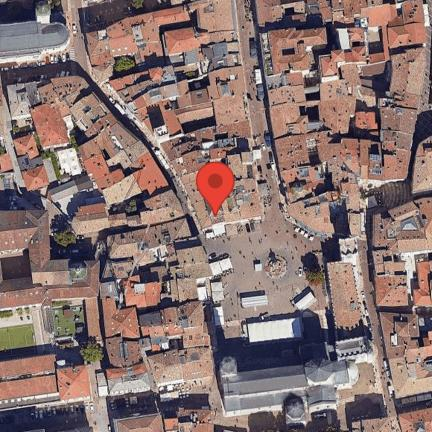area_open: (213, 215, 329, 337), (0, 301, 93, 359), (222, 323, 323, 368), (0, 402, 96, 432), (4, 50, 76, 79), (317, 206, 352, 258), (108, 394, 158, 416), (88, 0, 134, 23), (164, 384, 208, 407), (348, 395, 388, 416), (283, 13, 319, 29), (3, 174, 21, 206), (1, 2, 30, 18), (146, 108, 163, 131), (15, 156, 42, 170), (141, 55, 168, 68), (73, 128, 84, 143)
built: (255, 0, 432, 329), (94, 219, 250, 432), (86, 1, 245, 146), (32, 77, 170, 204), (162, 62, 262, 228), (218, 339, 378, 426), (0, 207, 100, 312), (374, 196, 432, 310), (0, 353, 92, 407), (376, 310, 432, 398), (0, 0, 72, 64), (73, 193, 184, 233), (6, 80, 50, 127), (243, 317, 303, 344), (413, 134, 432, 192), (351, 413, 401, 432), (413, 263, 431, 307), (398, 410, 432, 432), (24, 166, 51, 191), (293, 290, 319, 313), (59, 150, 83, 174), (376, 0, 398, 26), (14, 134, 38, 157), (207, 255, 232, 277), (207, 225, 238, 241), (239, 294, 268, 308), (337, 409, 349, 431), (213, 307, 225, 326), (210, 284, 224, 300), (367, 112, 376, 131), (252, 262, 262, 276), (197, 288, 207, 301), (368, 91, 376, 107)
vegetation_low: (37, 134, 72, 179), (50, 219, 77, 250), (110, 55, 139, 80), (80, 338, 104, 363), (308, 269, 323, 285)
